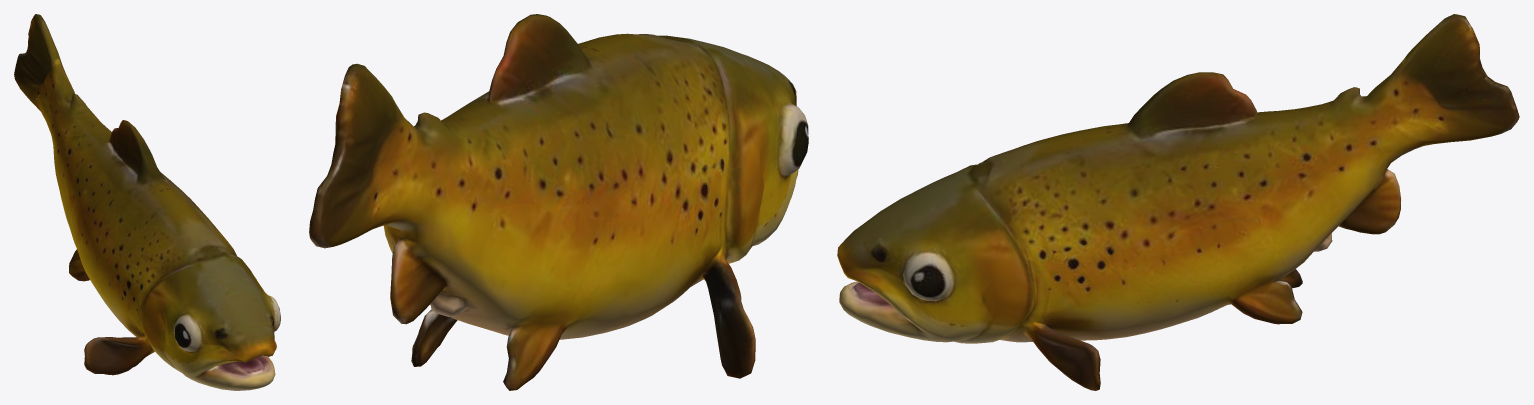
The model's file is lenok.glb.
3 views of the same model, side by side, from view 1: azimuth 30°, elevation 25°; view 2: azimuth 150°, elevation 25°; view 3: azimuth 270°, elevation 25° (orthographic). The views are drawn at different scales.
Visible parts, largest first — view 1: tripo_node_a2e18916-d70f-4012-8447-1e5385a89987; view 2: tripo_node_a2e18916-d70f-4012-8447-1e5385a89987; view 3: tripo_node_a2e18916-d70f-4012-8447-1e5385a89987.
Part boxes in pixels (x1=…): tripo_node_a2e18916-d70f-4012-8447-1e5385a89987: x1=14, y1=14, x2=280, y2=390; tripo_node_a2e18916-d70f-4012-8447-1e5385a89987: x1=309, y1=14, x2=808, y2=390; tripo_node_a2e18916-d70f-4012-8447-1e5385a89987: x1=837, y1=14, x2=1519, y2=390.
Size of the model in its own units: 0.393 by 0.5525 by 1.
1 material, 1 textured.
